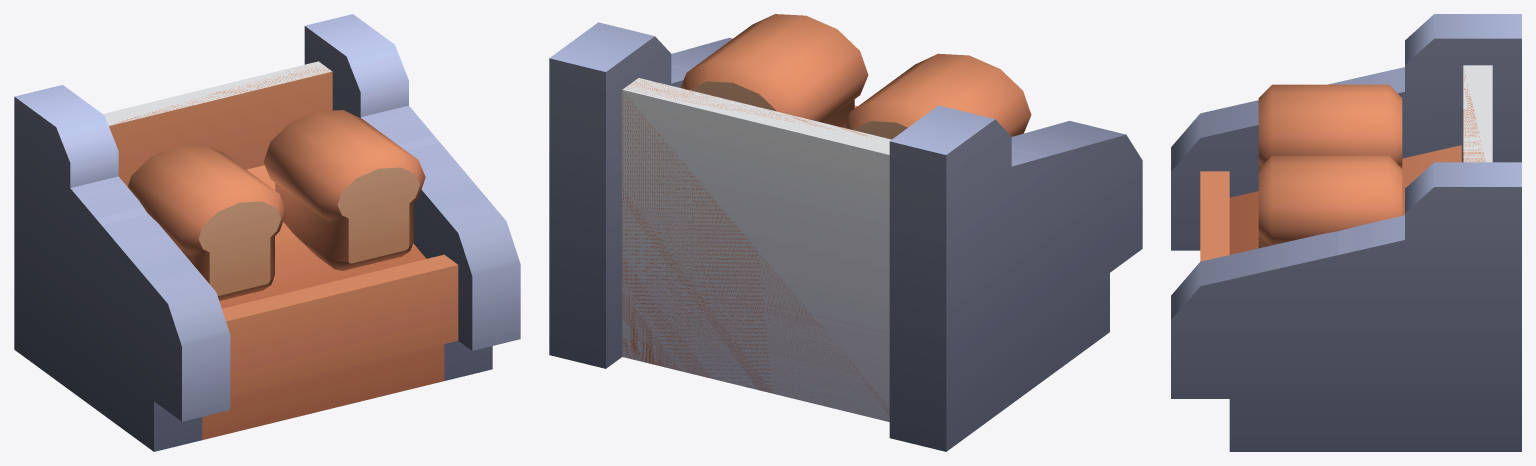
Rendered from store_display_bread.glb.
The picture shows the model from 3 angles, left to right: view 1: azimuth 30°, elevation 25°; view 2: azimuth 150°, elevation 25°; view 3: azimuth 270°, elevation 25°; orthographic projection. The views are drawn at different scales.
Visible parts, largest first — view 1: display-bread, bread (×2); view 2: display-bread, bread (×2); view 3: display-bread, bread (×2).
Boxes of the visible parts, x1,y1,x2,y2 form: display-bread: (14,14,520,451); bread (×2): (127,110,425,300); display-bread: (549,22,1142,451); bread (×2): (680,14,1031,139); display-bread: (1171,14,1521,451); bread (×2): (1258,84,1402,248).
Bounding box in the file's own units: 1.4 × 1 × 1.2.
1 material, 1 textured.
